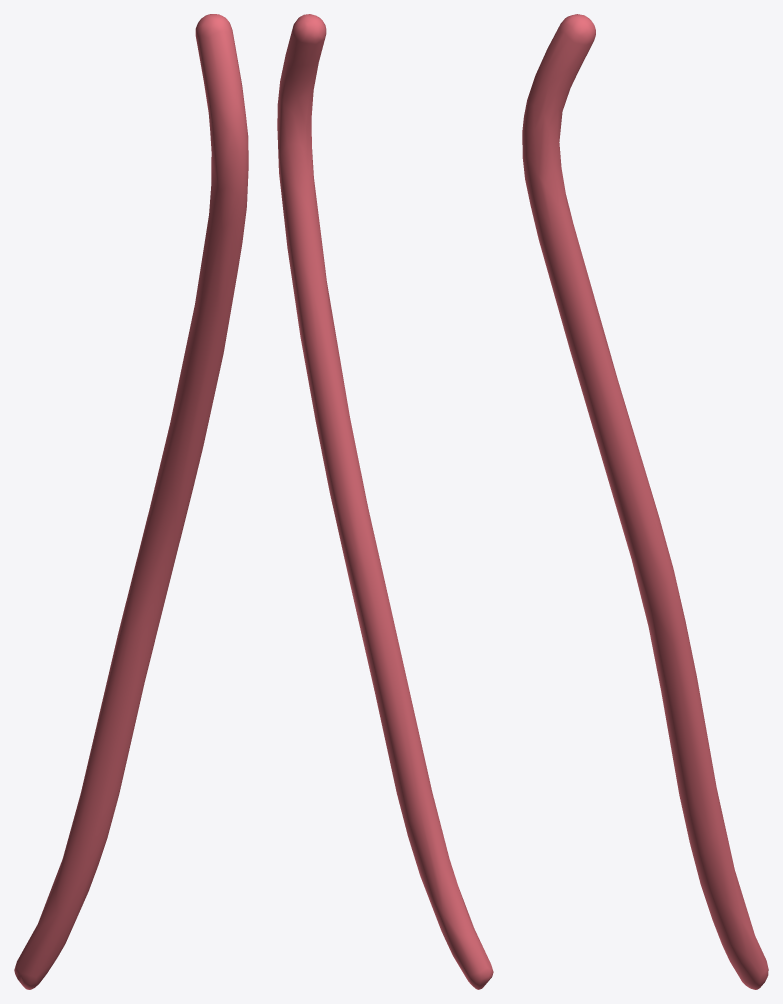
The model's file is fma21188_fj2144.glb.
3 views of the same model, side by side, from view 1: azimuth 30°, elevation 25°; view 2: azimuth 210°, elevation 25°; view 3: azimuth 270°, elevation 25° (orthographic). The views are drawn at different scales.
Parts seen in each view (by area): view 1: FMA21188_FJ2144; view 2: FMA21188_FJ2144; view 3: FMA21188_FJ2144.
Part boxes in pixels (left/top/right/bottom): FMA21188_FJ2144: left=14, top=14, right=248, bottom=989; FMA21188_FJ2144: left=277, top=14, right=493, bottom=989; FMA21188_FJ2144: left=522, top=14, right=768, bottom=989.
Size of the model in its own units: 0.0418 by 0.3233 by 0.0707.
